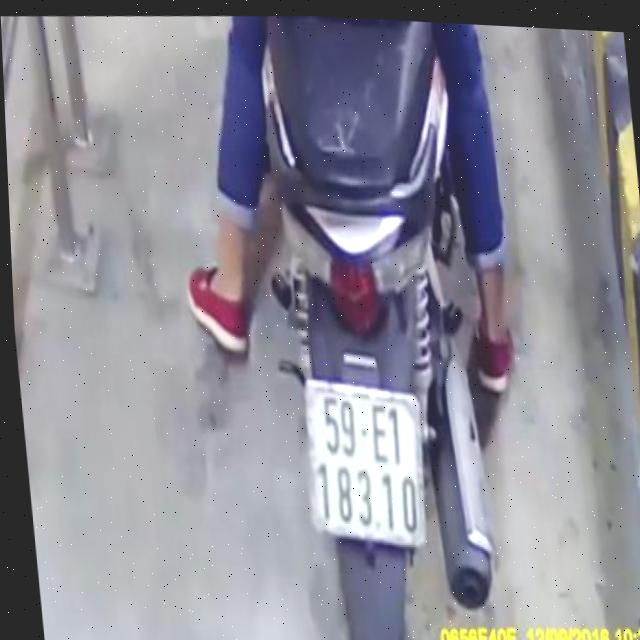motorcycle: (235, 12, 528, 640)
plate: (291, 372, 434, 558)
